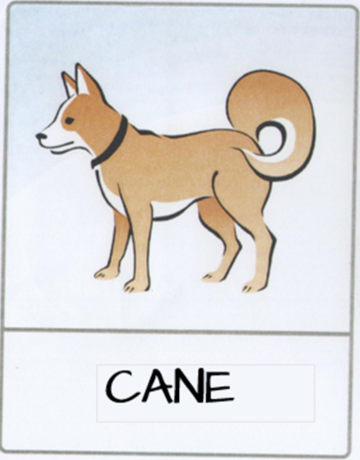cane: (16, 26, 356, 443)
